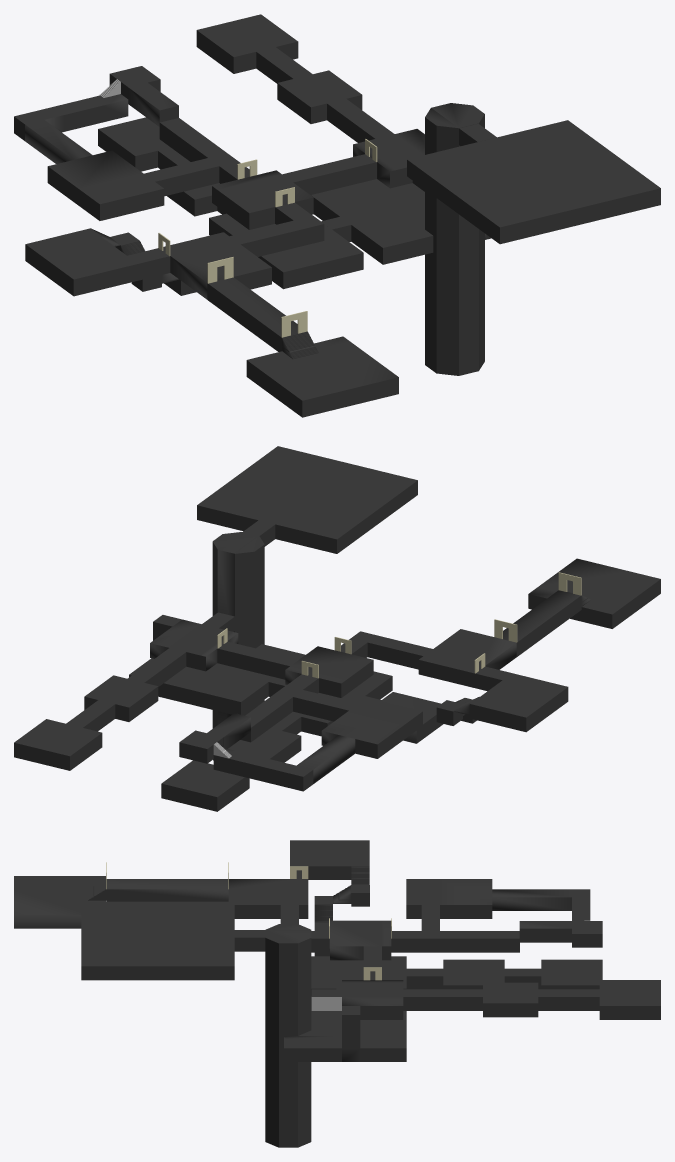
Rendered from FYP_Level_Blocking_2.5x.FBX.
3 renders of one model, top to bottom at view 1: azimuth 30°, elevation 25°; view 2: azimuth 150°, elevation 25°; view 3: azimuth 270°, elevation 25°, orthographic. The views are drawn at different scales.
Visible parts, largest first — view 1: BoxBrush054, CylinderBrush001, BoxBrush059, BoxBrush043, BoxBrush069, BoxBrush057, BoxBrush049, BoxBrush061, BoxBrush079, BoxBrush074, BoxBrush060, BoxBrush078 (+15 smaller); view 2: BoxBrush054, CylinderBrush001, BoxBrush059, BoxBrush043, BoxBrush057, BoxBrush069, BoxBrush061, BoxBrush079, BoxBrush045, BoxBrush074, BoxBrush076, BoxBrush060 (+16 smaller); view 3: BoxBrush054, CylinderBrush001, BoxBrush043, BoxBrush059, BoxBrush069, BoxBrush061, BoxBrush060, BoxBrush057, BoxBrush079, BoxBrush074, BoxBrush076, BoxBrush049 (+18 smaller).
Part boxes in pixels (x1,y1,x2,y2): BoxBrush054: (407, 120, 660, 244); CylinderBrush001: (425, 103, 484, 375); BoxBrush059: (246, 336, 398, 417); BoxBrush043: (311, 179, 491, 264); BoxBrush069: (47, 150, 164, 220); BoxBrush057: (25, 228, 138, 296); BoxBrush049: (209, 213, 363, 289); BoxBrush061: (163, 232, 271, 299); BoxBrush079: (196, 14, 298, 73); BoxBrush074: (212, 170, 313, 229); BoxBrush060: (207, 277, 297, 351); BoxBrush078: (277, 70, 362, 123); BoxBrush054: (197, 446, 417, 553); CylinderBrush001: (212, 532, 264, 728); BoxBrush059: (528, 558, 660, 628); BoxBrush043: (129, 644, 305, 714); BoxBrush057: (470, 673, 568, 732); BoxBrush069: (321, 697, 422, 758); BoxBrush061: (418, 629, 516, 687); BoxBrush079: (14, 719, 102, 770); BoxBrush045: (161, 760, 249, 811); BoxBrush074: (285, 646, 373, 697); BoxBrush076: (150, 619, 238, 671); BoxBrush060: (503, 590, 581, 656); BoxBrush054: (81, 901, 234, 980); CylinderBrush001: (265, 924, 311, 1147); BoxBrush043: (284, 996, 406, 1061); BoxBrush059: (14, 876, 105, 928); BoxBrush069: (406, 879, 492, 918); BoxBrush061: (228, 879, 308, 918); BoxBrush060: (106, 879, 228, 901); BoxBrush057: (290, 840, 369, 879); BoxBrush079: (599, 980, 660, 1019); BoxBrush074: (330, 920, 391, 960); BoxBrush076: (342, 980, 403, 1019); BoxBrush049: (311, 956, 406, 995).
Bounding box in the file's own units: 357375 × 527525 × 183750.
